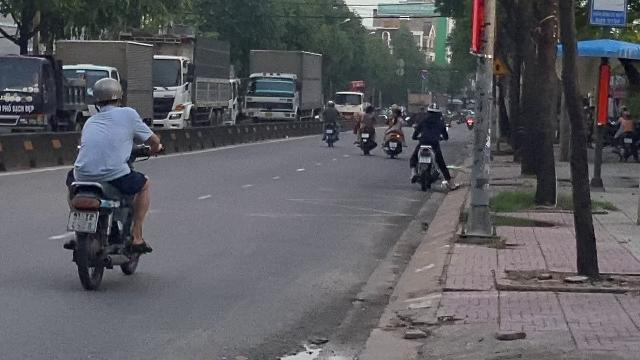helmet: (90, 76, 124, 110)
licenseplate: (70, 211, 98, 231)
motorcyclist: (58, 74, 158, 288)
